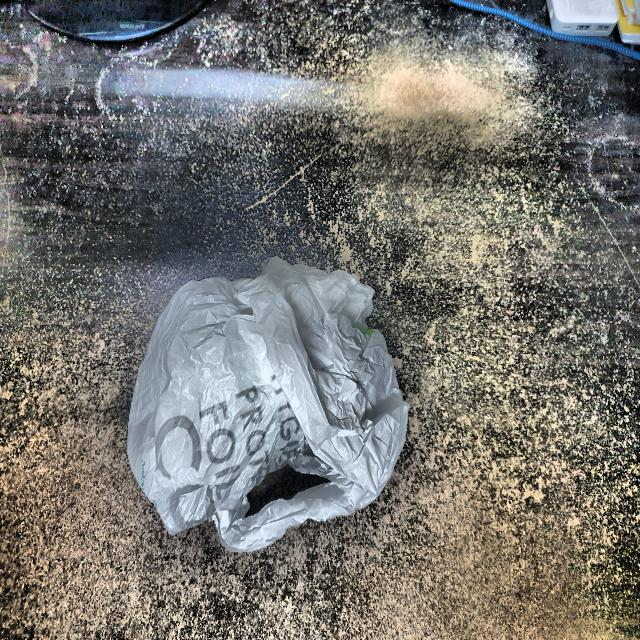plastic bag: (118, 249, 417, 562)
